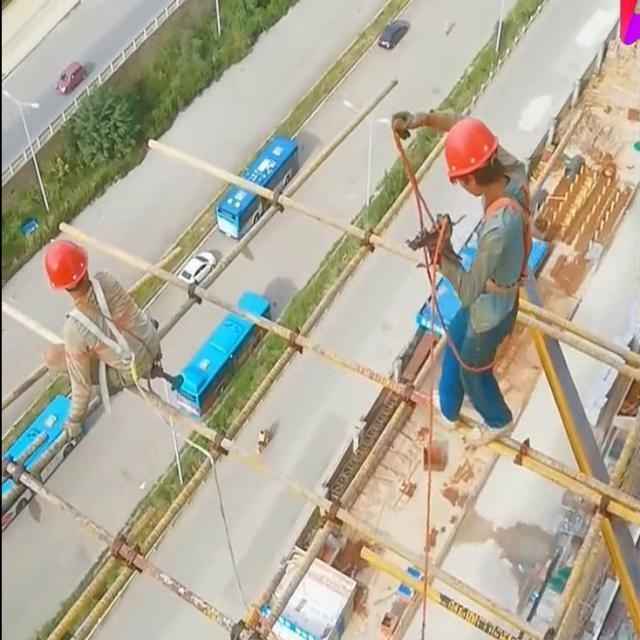Arnes_seguridad: (60, 271, 147, 380), (473, 173, 536, 298)
